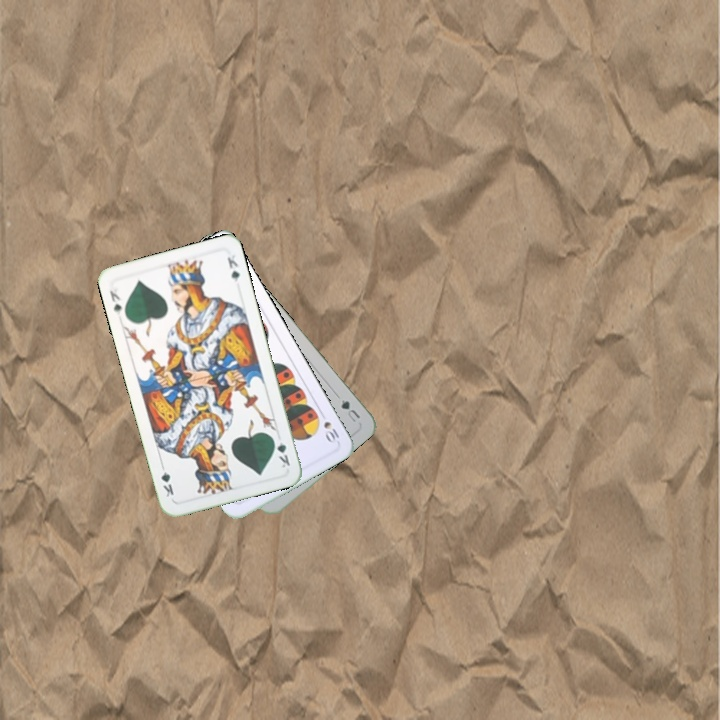GK: (269, 432, 293, 470), (106, 287, 125, 317)
GU: (337, 395, 363, 425)
S10: (316, 408, 343, 446)
